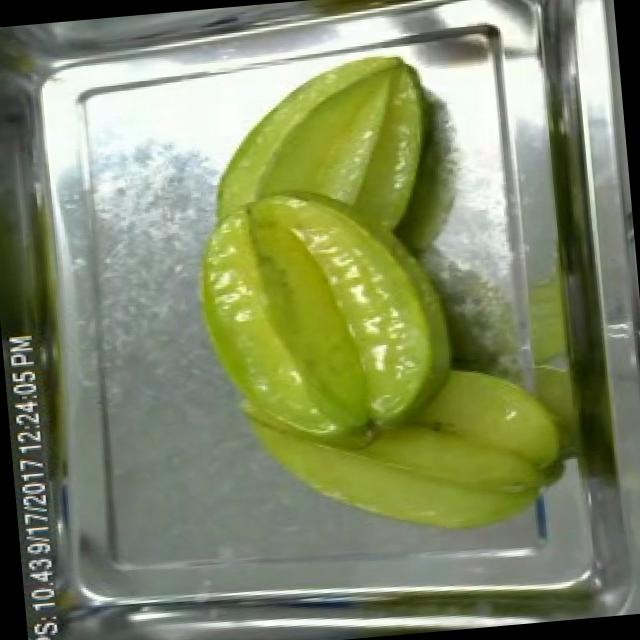fruit: (181, 158, 478, 526), (284, 347, 588, 560), (193, 42, 443, 266)
